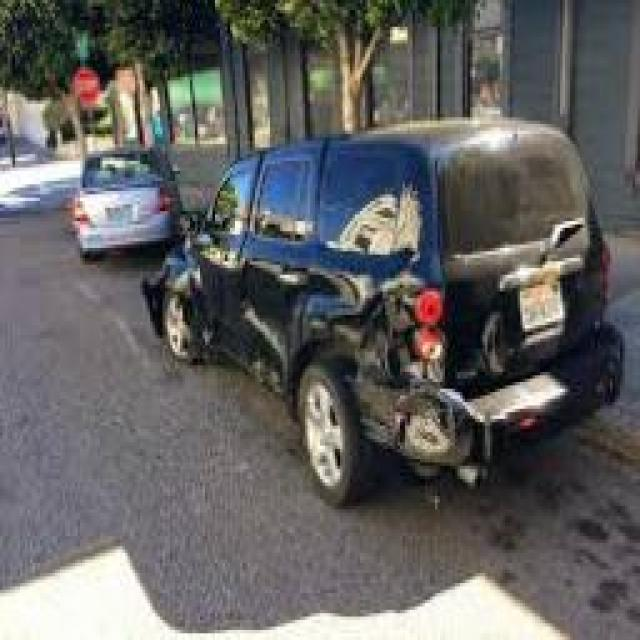replaceable: (338, 294, 463, 490), (132, 254, 199, 347)
